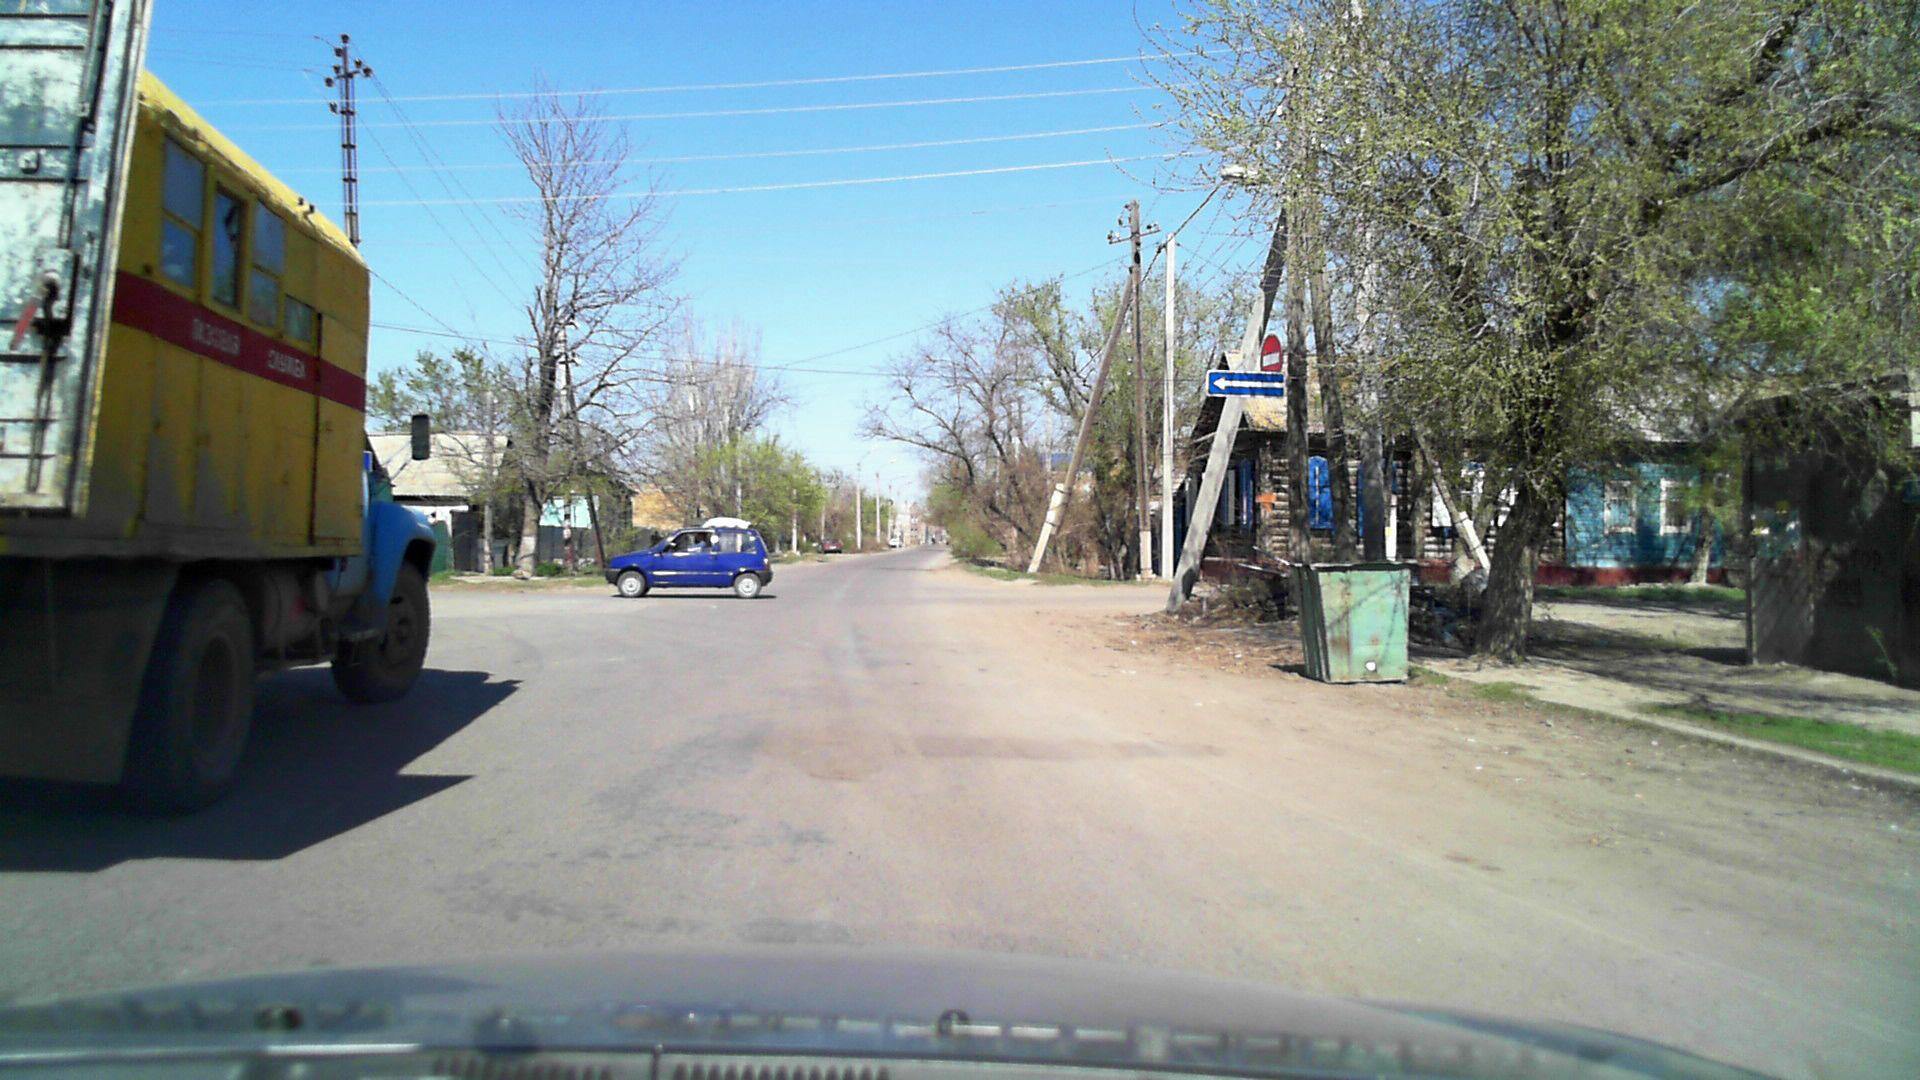3_1: (1256, 335, 1283, 371)
5_7_2: (1204, 370, 1285, 396)
